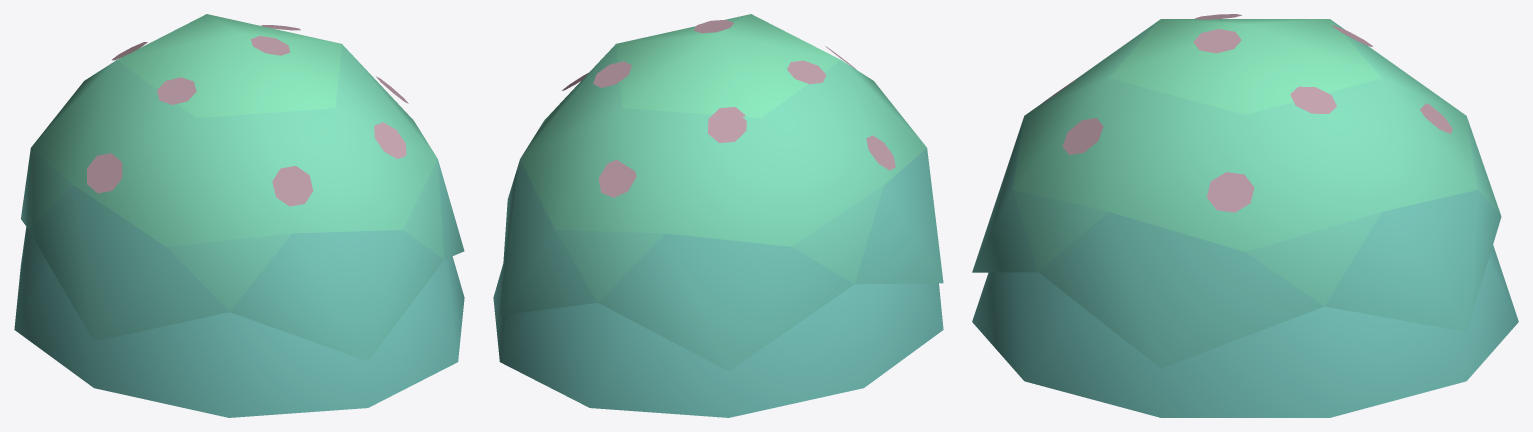
Rendered from bush.glb.
The picture shows the model from 3 angles, left to right: view 1: azimuth 30°, elevation 25°; view 2: azimuth 150°, elevation 25°; view 3: azimuth 270°, elevation 25°; orthographic projection. The views are drawn at different scales.
Visible parts, largest first — view 1: Bush.001; view 2: Bush.001; view 3: Bush.001.
Boxes of the visible parts, x1,y1,x2,y2 form: Bush.001: [14, 14, 464, 417]; Bush.001: [493, 14, 943, 417]; Bush.001: [972, 14, 1518, 417].
Bounding box in the file's own units: 0.636 × 0.4589 × 0.7653.
